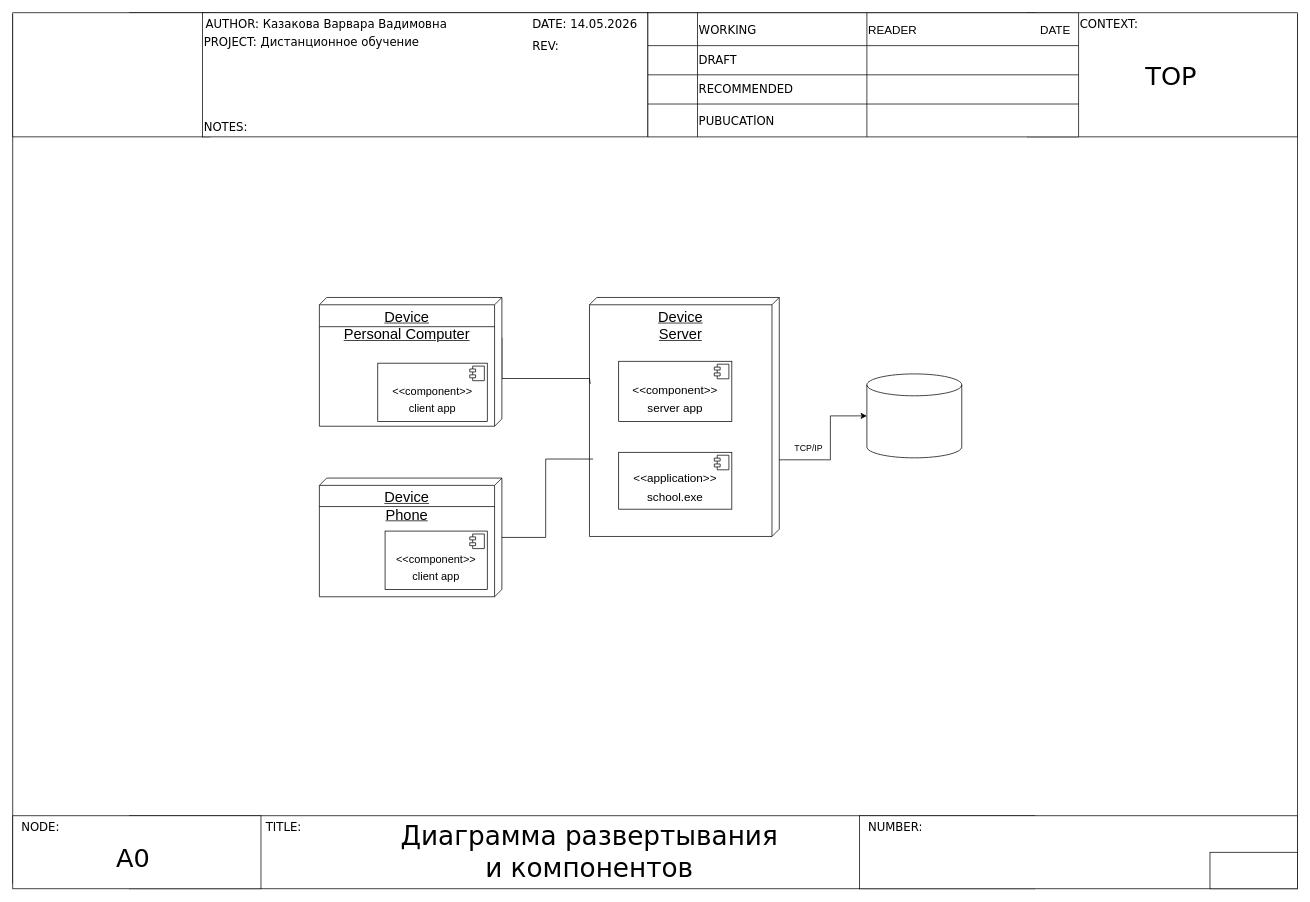
The diagram is 1310 pixels wide and 902 high, and some of its shapes have lost their labels. The shapes that lost their labels are listed below. From the top down, each one's box as (x1, y1, x2, y2) in pixels, then its label:
(12, 12, 210, 137): USET AT:
(866, 373, 962, 458): OracleDB
